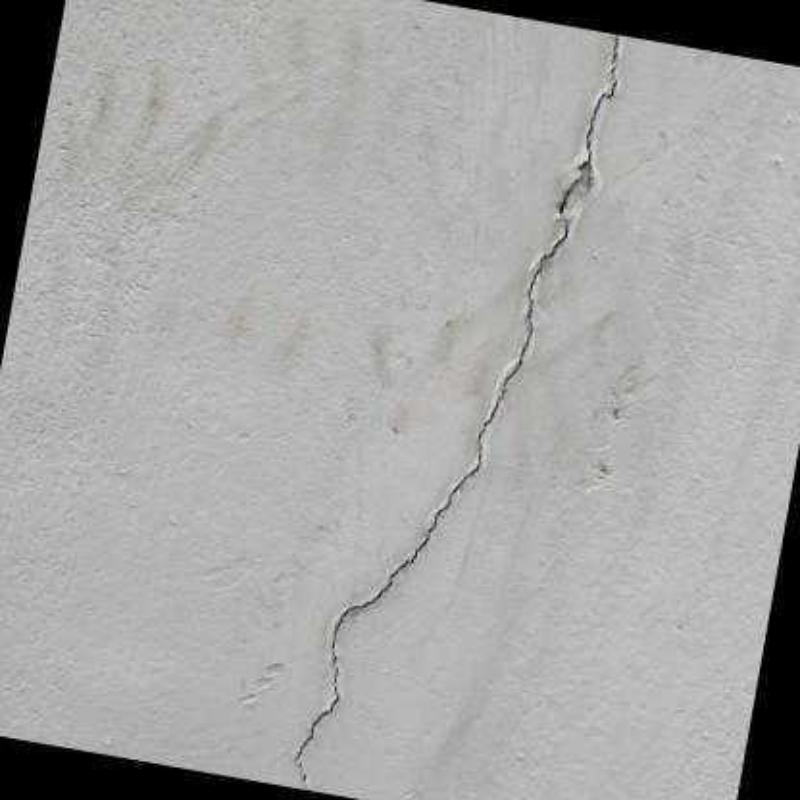pothole: (296, 189, 570, 760), (577, 64, 618, 169), (301, 760, 314, 792), (610, 33, 620, 63)
